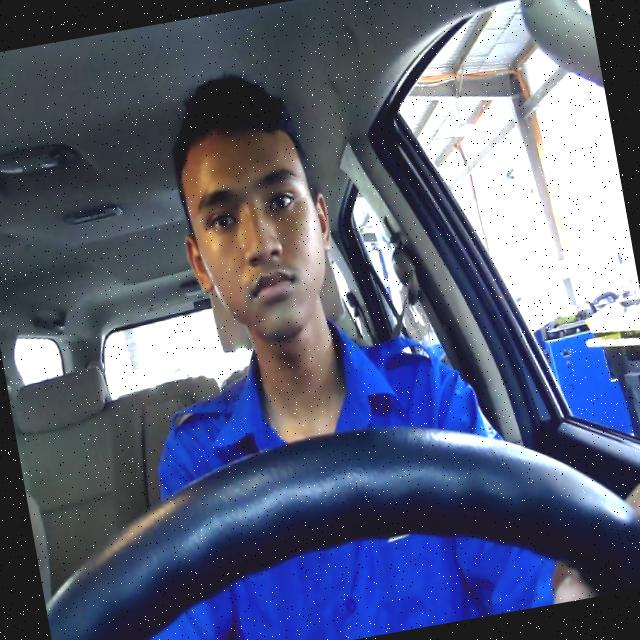focused: (166, 118, 348, 354)
